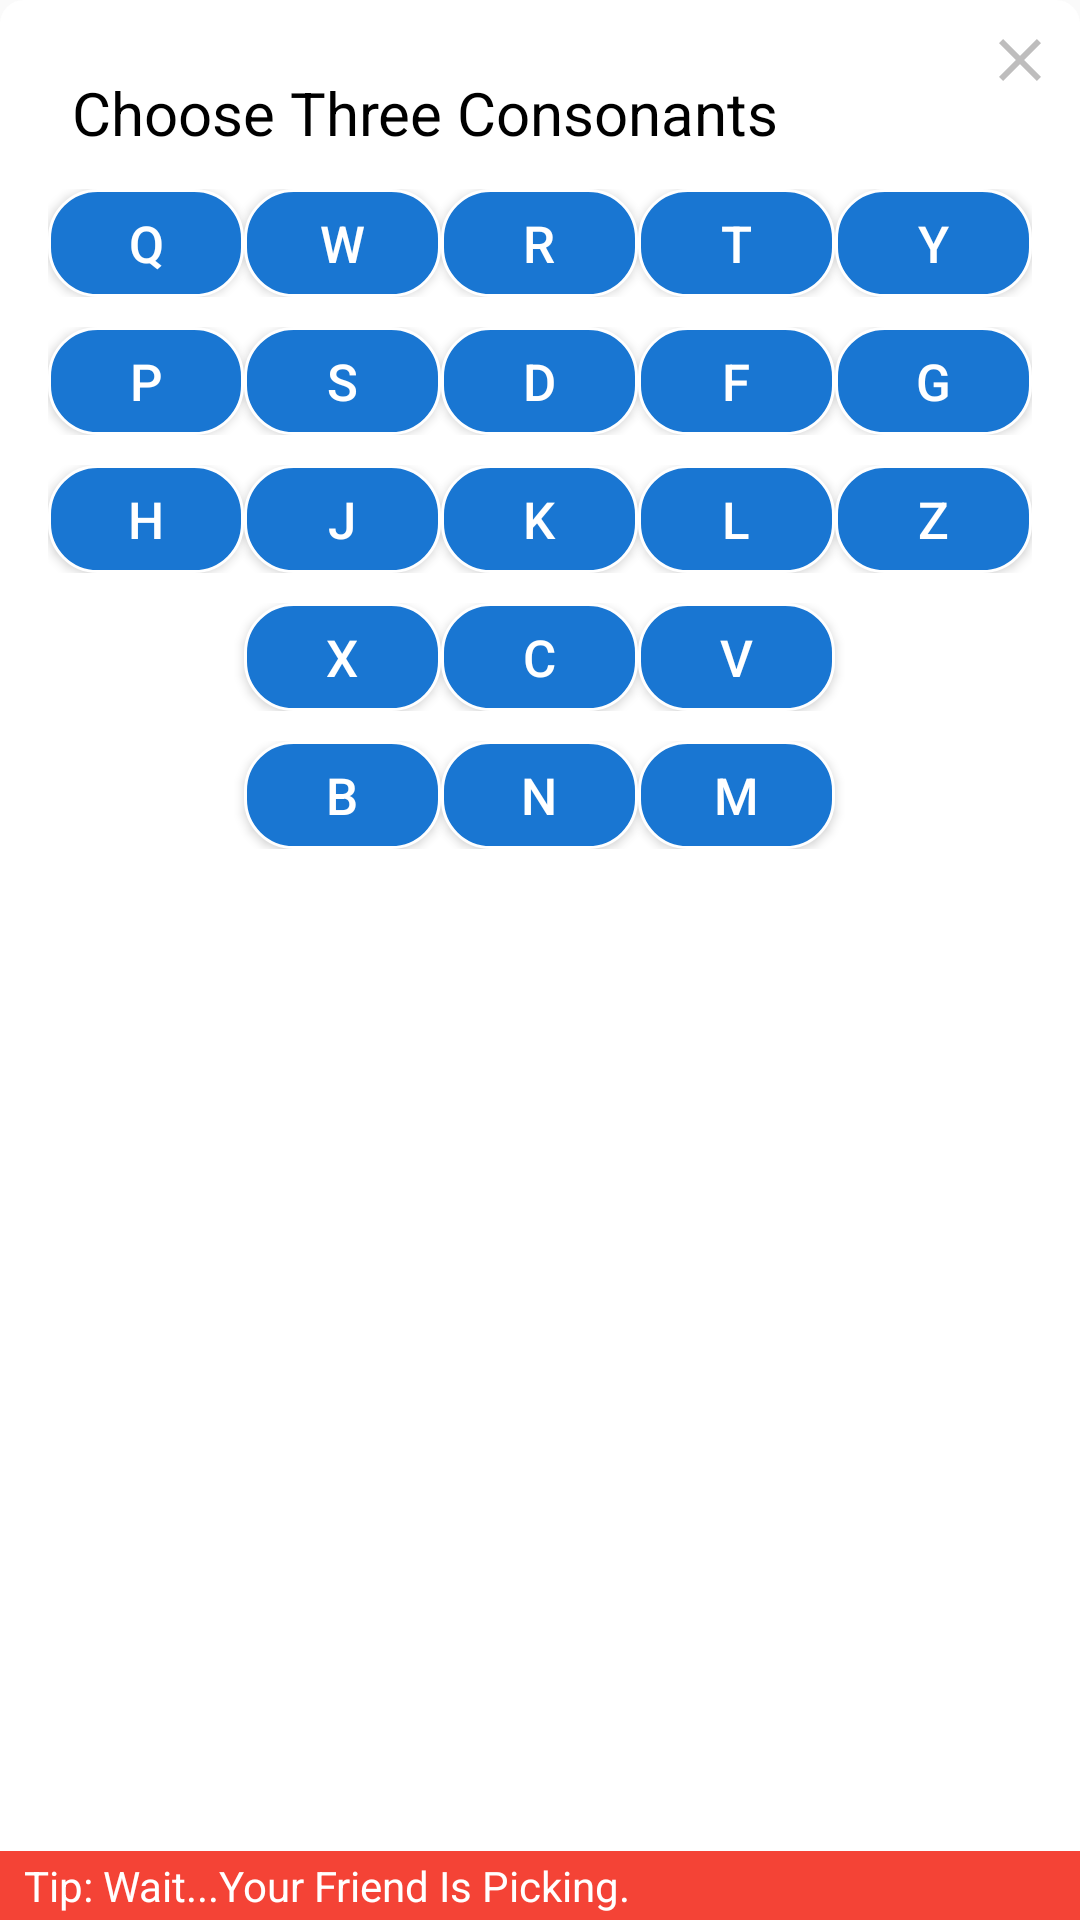

Named icons in this screenshot (1080w x 1920h) and their bounding boxes, (x1, y1, x2, y2):
close: (999, 39, 1041, 81)
